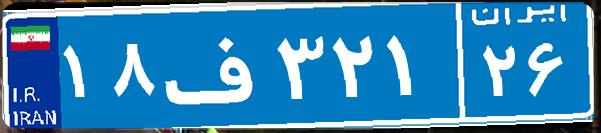1: (385, 28, 445, 110), (57, 26, 110, 107)
2: (330, 28, 385, 110), (475, 38, 525, 113)
3: (273, 28, 330, 110)
6: (525, 38, 570, 115)
8: (110, 28, 158, 105)
ف: (158, 15, 273, 115)
